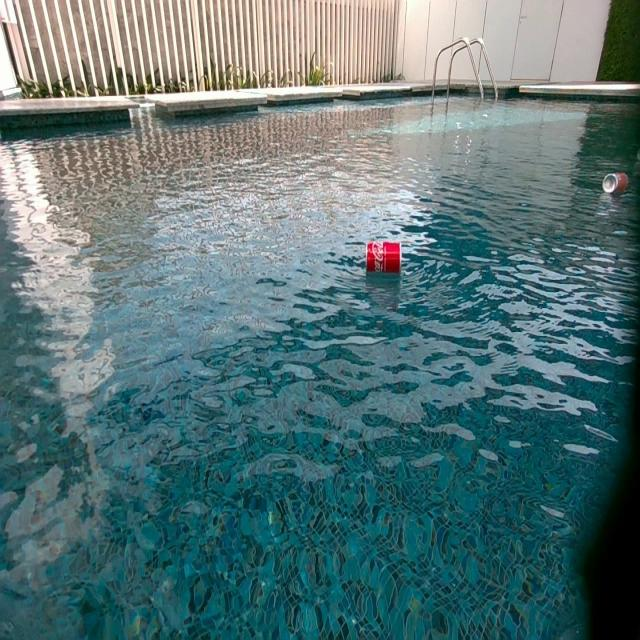Cans: (367, 240, 402, 274), (603, 172, 628, 196)
